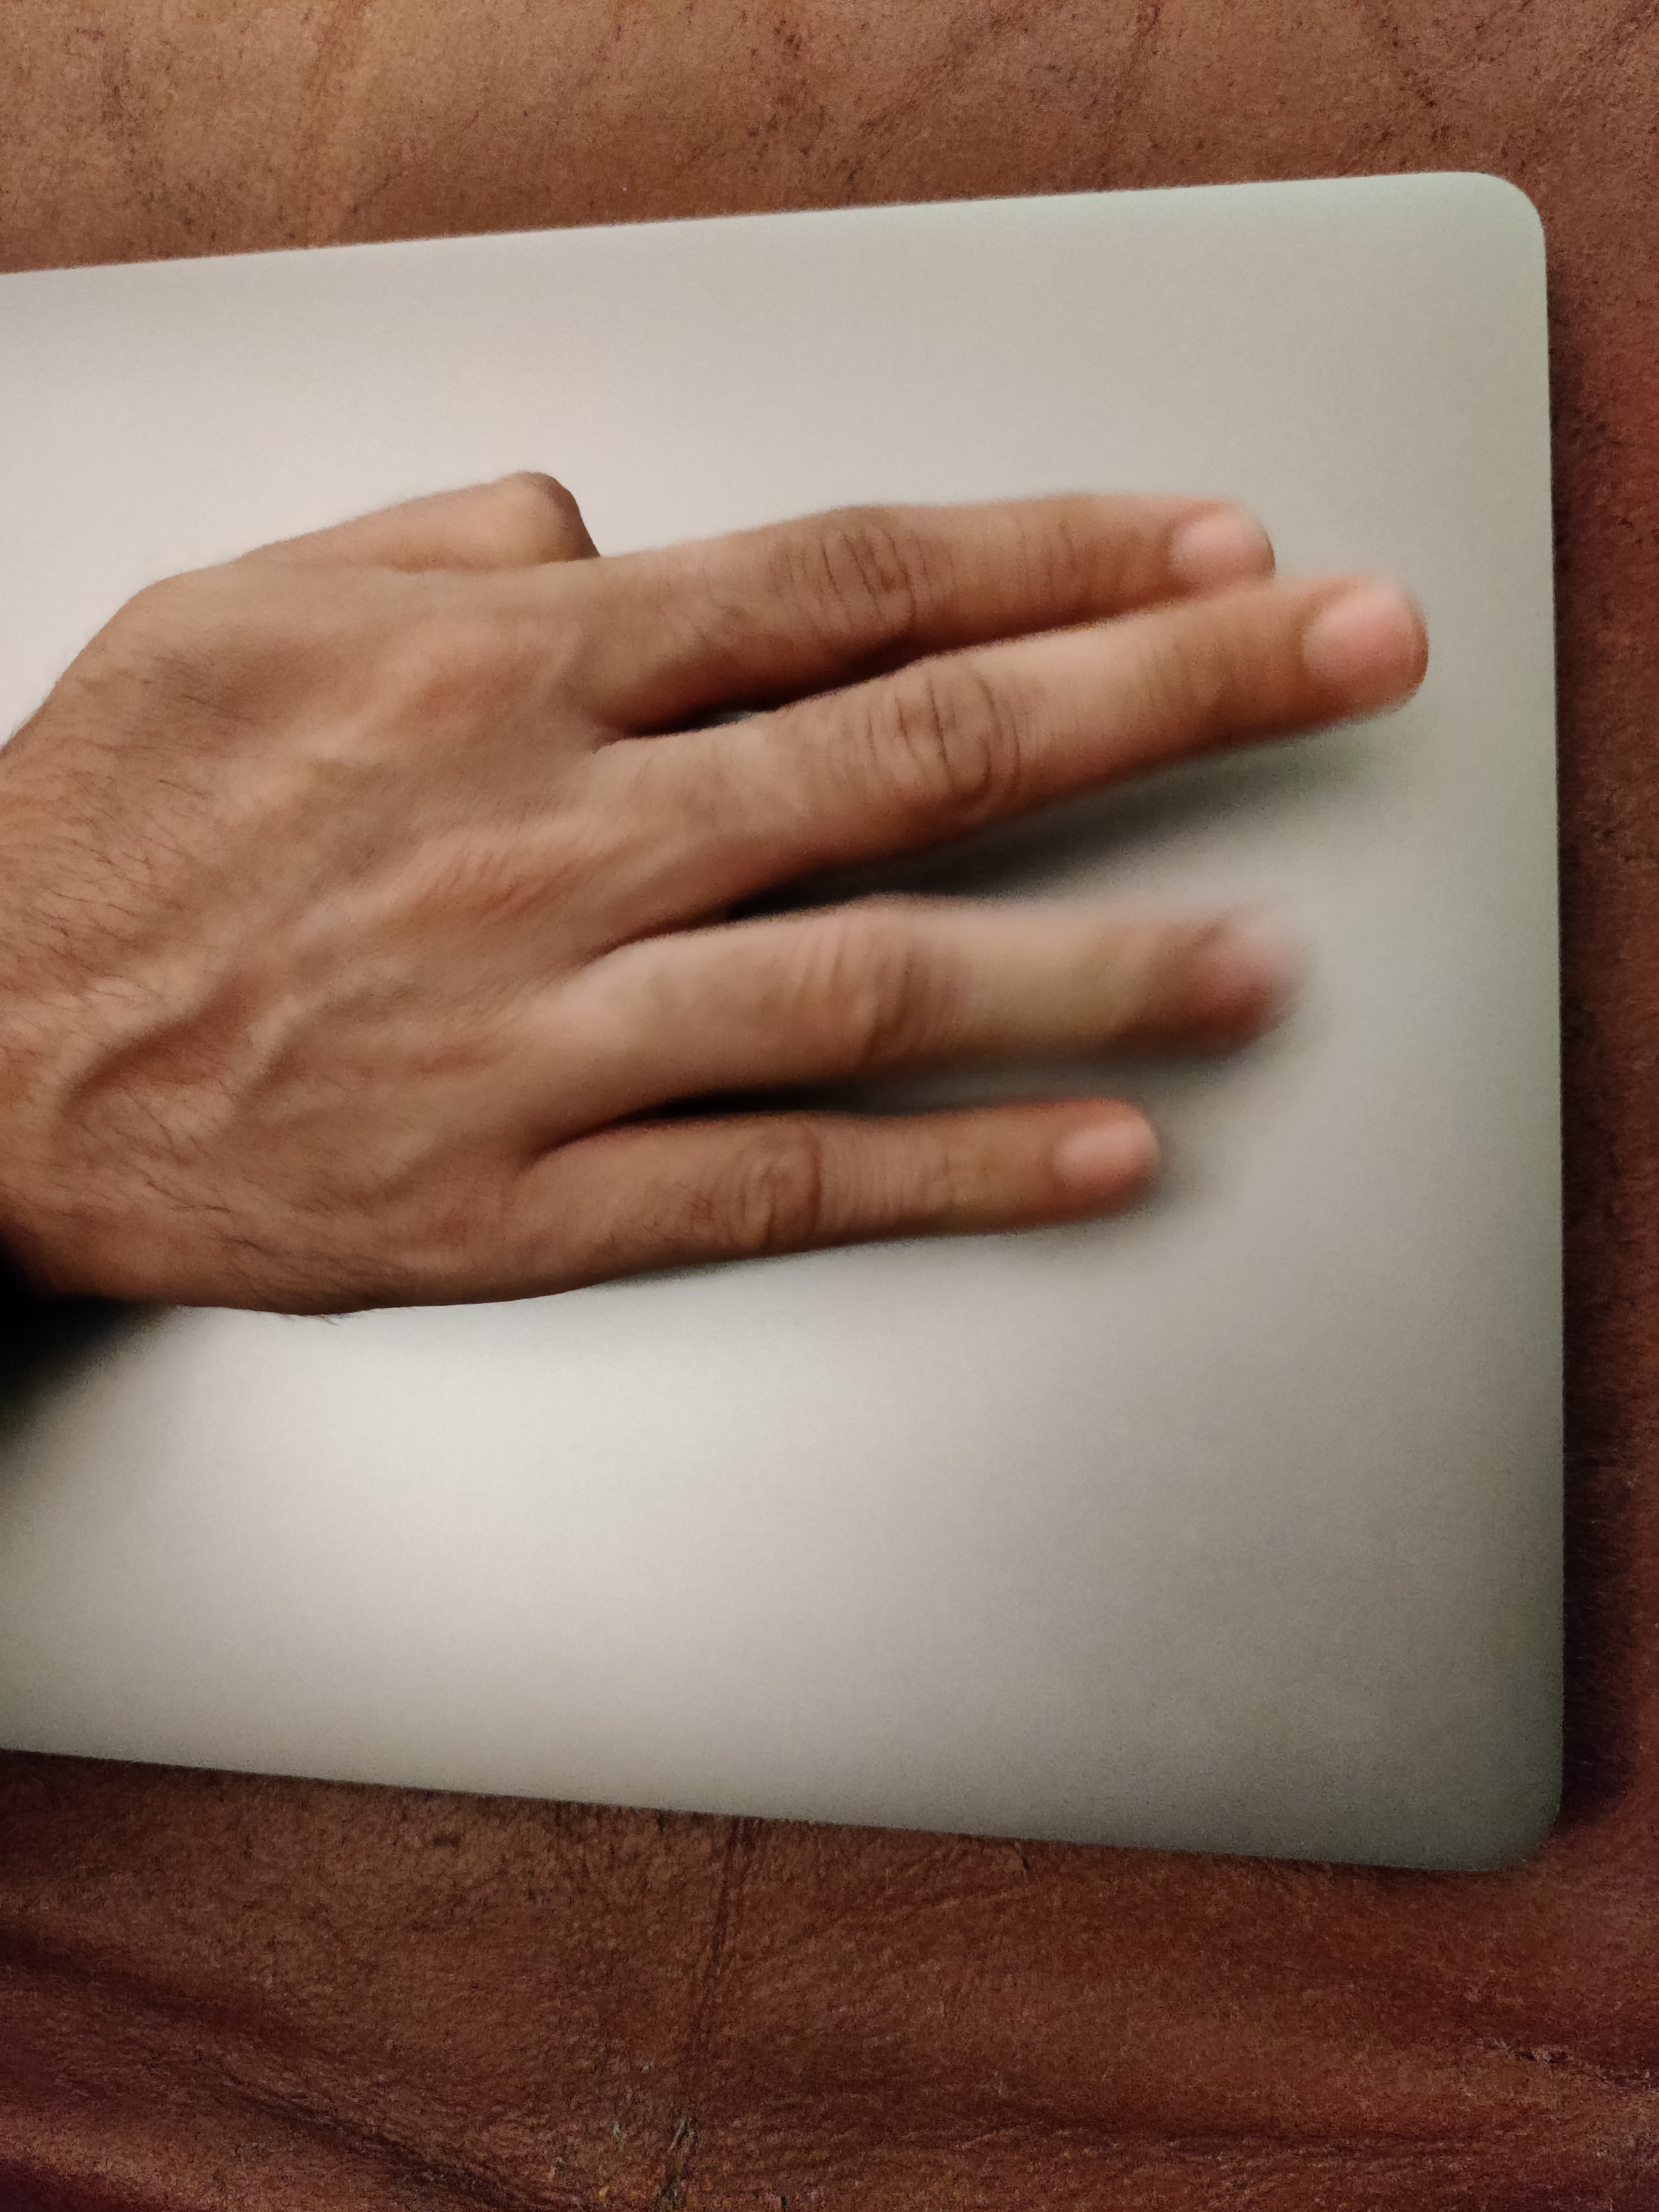left: (85, 381, 1485, 1446)
